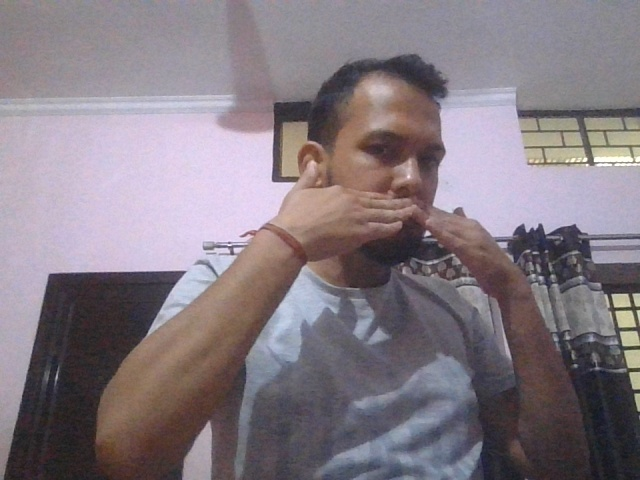thanks: (261, 161, 536, 297)
